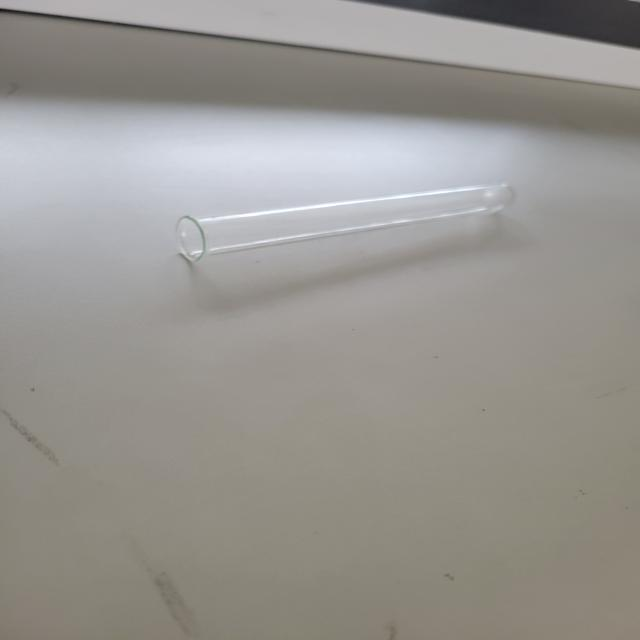Test_Tube: (132, 140, 551, 281)
